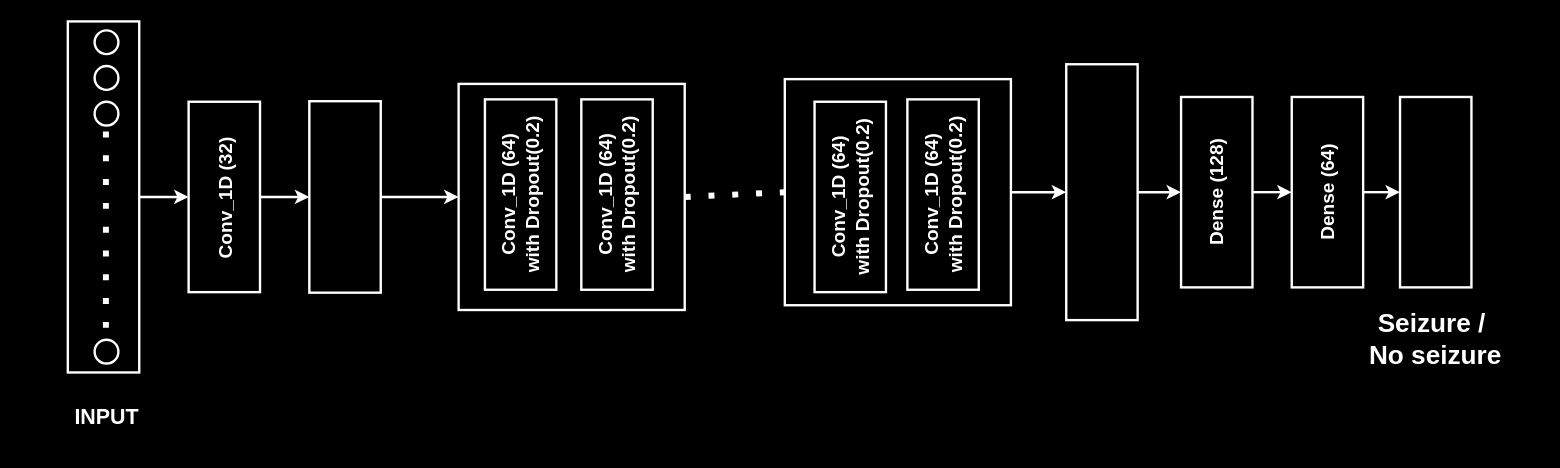
Some shapes in this 1560 by 468 pixel diagram are drawn without their labels. Each missing label, with the box of its shape:
Conv_1D (64): (308, 99, 381, 293)
Global Avg Pooling: (1064, 62, 1138, 321)
Prediction: (1398, 95, 1472, 288)
